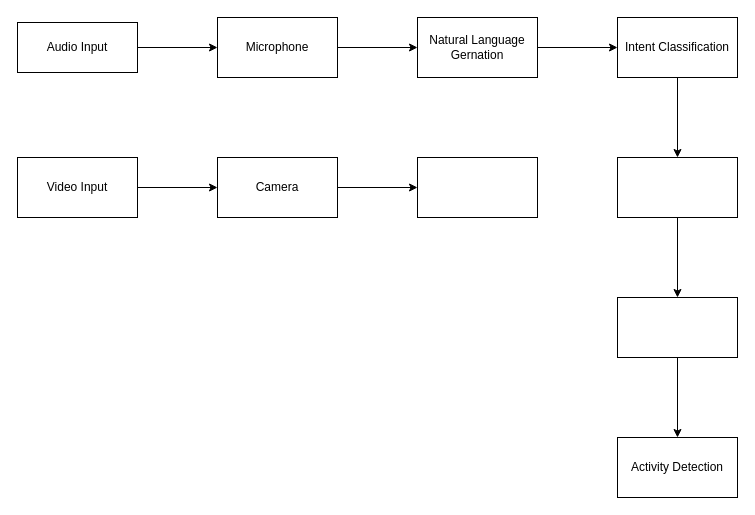
This 755x515 diagram has some shape labels left out. Here are the shapes that lost their labels. From the top down, the centre of each, then its label:
(x=477, y=187): Extracting Frames
(x=677, y=187): Human Detection
(x=677, y=327): Pose Detection
